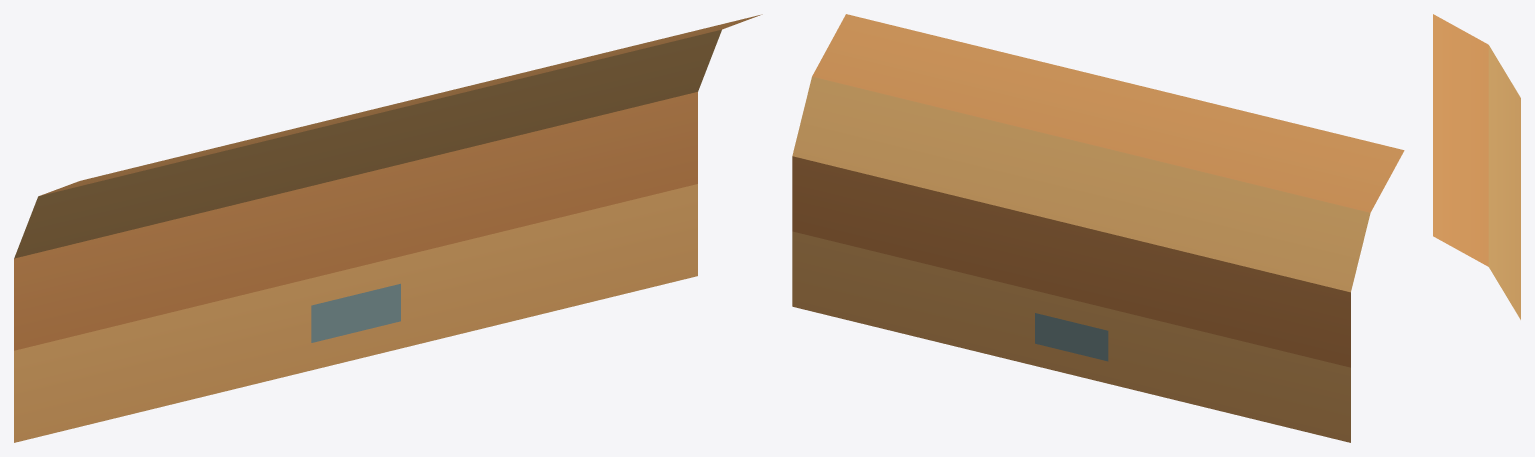
File: door-wide-open.glb
3 renders of one model, left to right at view 1: azimuth 30°, elevation 25°; view 2: azimuth 150°, elevation 25°; view 3: azimuth 270°, elevation 25°, orthographic. The views are drawn at different scales.
Parts seen in each view (by area): view 1: door-wide-open; view 2: door-wide-open; view 3: door-wide-open.
Boxes of the visible parts, x1,y1,x2,y2 form: door-wide-open: (14,14,762,442); door-wide-open: (792,14,1404,442); door-wide-open: (1433,14,1520,319).
Size of the model in its own units: 1.8 by 0.7802 by 0.3.
1 material, 1 textured.
